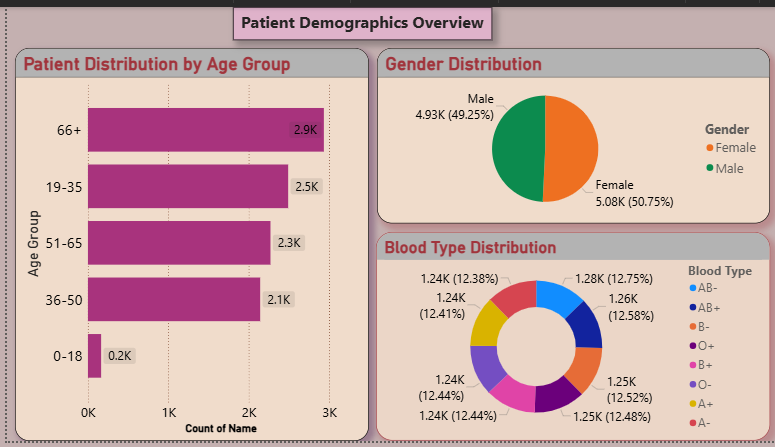

This screenshot's page, from the dashboard's own definition file:
{"tool":"powerbi","page":{"name":"Patient Demographics Overview","canvas":[1280,720],"ordinal":0},"visuals":[{"type":"clusteredBarChart","title":"Patient Distribution by Age Group","fields":{"Y":["CountNonNull(healthcare_dataset1.Name)"],"Category":["healthcare_dataset1.Age Group"]},"box":[12.9,68,587.3,652],"z":0},{"type":"pieChart","title":" Gender Distribution","fields":{"Category":["healthcare_dataset1.Gender"],"Y":["CountNonNull(healthcare_dataset1.Name)"]},"box":[613.2,68,652,291.2],"z":1000},{"type":"donutChart","title":" Blood Type Distribution","fields":{"Category":["healthcare_dataset1.Blood Type"],"Y":["CountNonNull(healthcare_dataset1.Name)"]},"box":[611.6,373.8,653.7,346.2],"z":2000},{"type":"textbox","box":[375.4,0,430.4,55],"z":3000}]}

Visuals, with their boxes in screenshot pixels (x1, y1, x2, y2), scaled from the page's 1280x720 canvas onto the 775x447 screenshot:
"Patient Distribution by Age Group" clusteredBarChart: bbox=[8, 42, 363, 446]
" Gender Distribution" pieChart: bbox=[371, 42, 766, 223]
" Blood Type Distribution" donutChart: bbox=[370, 232, 766, 446]
textbox: bbox=[227, 0, 488, 34]
